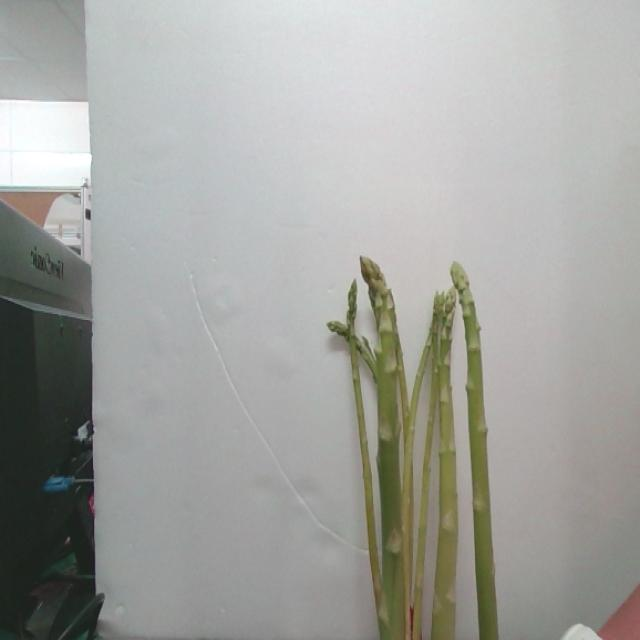aspargus: (450, 264, 499, 640), (360, 255, 407, 640)
